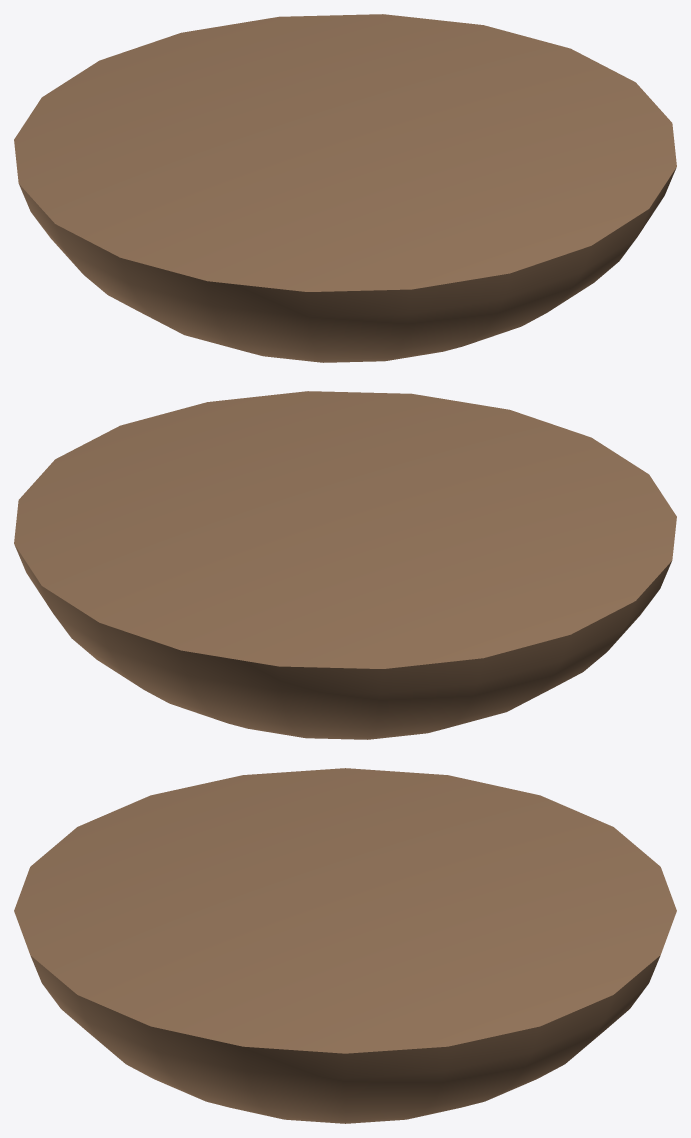
File: sutlu_kahve_materyal.fbx
3 renders of one model, top to bottom at view 1: azimuth 30°, elevation 25°; view 2: azimuth 150°, elevation 25°; view 3: azimuth 270°, elevation 25°, orthographic.
Parts seen in each view (by area): view 1: pSphere10; view 2: pSphere10; view 3: pSphere10.
Boxes of the visible parts, left/top/right/bottom form: pSphere10: left=14, top=14, right=676, bottom=362; pSphere10: left=14, top=391, right=676, bottom=739; pSphere10: left=14, top=768, right=676, bottom=1123.
Bounding box in the file's own units: 7.86 × 2.12 × 7.71.
